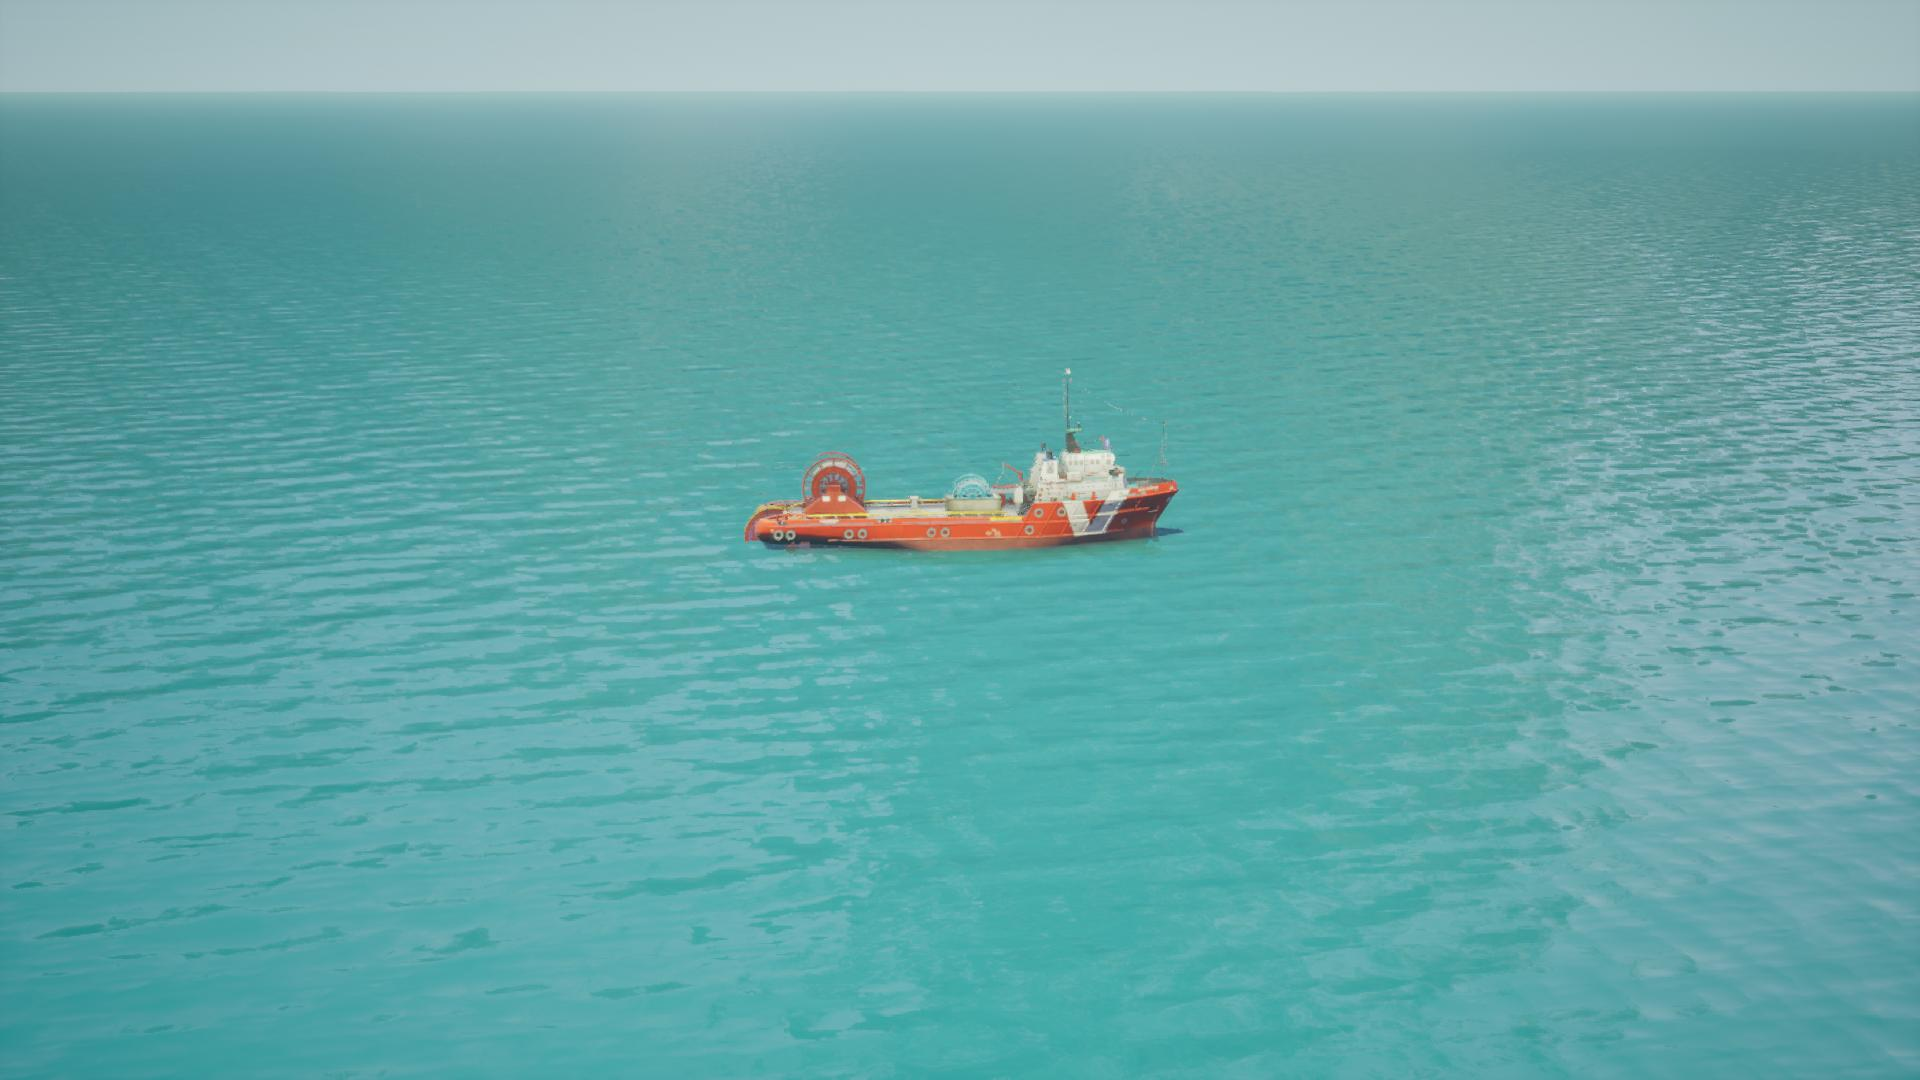Tug Boat: (743, 372, 1184, 558)
